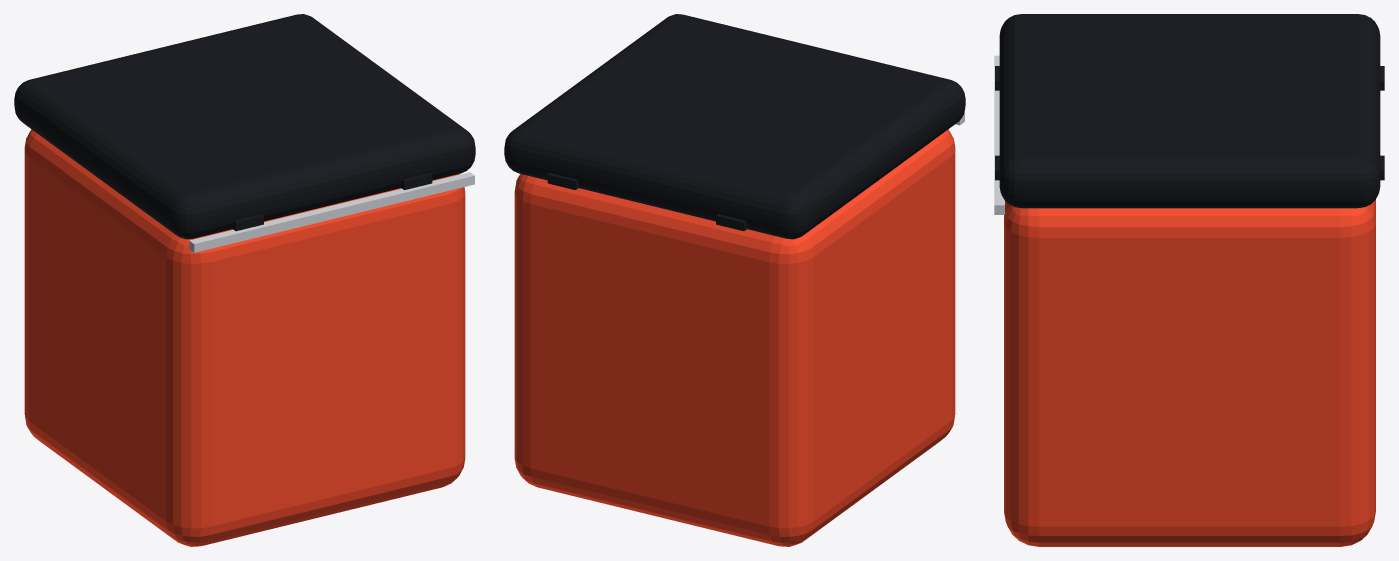
File: delivery_bag.glb
The picture shows the model from 3 angles, left to right: view 1: azimuth 30°, elevation 25°; view 2: azimuth 150°, elevation 25°; view 3: azimuth 270°, elevation 25°; orthographic projection. The views are drawn at different scales.
Parts seen in each view (by area): view 1: bag, lid, zip; view 2: bag, lid; view 3: bag, lid, zip.
Boxes of the visible parts, x1,y1,x2,y2 form: bag: (24,129,465,546); lid: (14,14,475,239); zip: (189,172,474,252); bag: (514,129,955,546); lid: (504,14,965,239); bag: (1004,199,1375,546); lid: (999,14,1380,208); zip: (994,55,1004,214).
Bounding box in the file's own units: 0.43 × 0.49 × 0.441.
